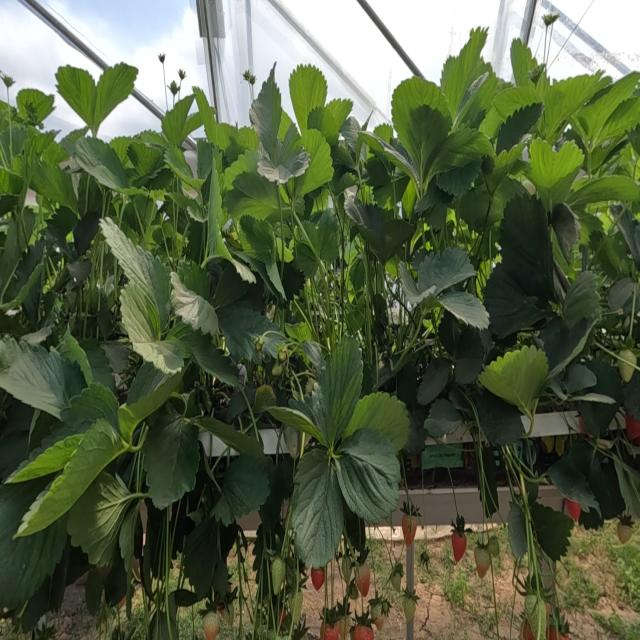Flowers: (242, 70, 255, 88), (177, 68, 186, 80)
Leaves: (5, 383, 120, 484), (1, 482, 67, 611), (67, 471, 139, 566), (0, 337, 82, 417), (305, 335, 363, 447), (290, 446, 343, 567), (391, 77, 451, 181), (105, 231, 170, 326), (541, 272, 600, 374), (337, 428, 399, 524), (207, 160, 255, 282), (500, 195, 555, 300), (120, 283, 181, 374), (570, 72, 639, 150), (144, 417, 199, 508), (540, 72, 609, 139), (481, 346, 547, 415), (483, 264, 543, 337), (440, 26, 487, 118), (425, 126, 491, 189), (212, 454, 269, 524), (456, 175, 524, 232), (217, 301, 277, 365), (346, 392, 409, 450), (529, 140, 582, 208), (171, 261, 216, 334), (250, 67, 282, 166), (417, 246, 475, 299), (3, 239, 51, 303), (345, 192, 388, 262), (183, 514, 219, 597), (93, 62, 138, 128), (72, 137, 128, 190), (193, 418, 263, 457), (289, 64, 327, 134), (474, 389, 523, 443), (224, 172, 279, 219), (548, 458, 599, 508), (190, 333, 239, 385), (56, 65, 95, 129), (238, 216, 277, 279), (532, 501, 574, 559), (32, 158, 77, 212), (297, 130, 333, 197), (497, 102, 542, 151), (569, 175, 640, 206), (471, 440, 499, 518), (308, 99, 351, 147), (193, 87, 227, 146), (216, 123, 260, 167), (257, 149, 310, 185), (80, 340, 115, 393), (440, 292, 488, 330), (551, 203, 580, 261), (127, 363, 168, 404), (399, 263, 439, 303), (163, 96, 194, 147), (455, 327, 483, 383), (424, 400, 463, 439), (417, 357, 450, 403), (510, 38, 539, 86), (340, 116, 367, 165), (16, 89, 54, 123), (127, 142, 163, 177), (165, 146, 195, 186), (316, 209, 338, 263), (507, 501, 527, 559), (102, 340, 129, 375), (564, 364, 595, 394), (294, 239, 318, 277), (607, 277, 635, 309), (301, 220, 320, 258), (197, 139, 213, 180), (253, 385, 276, 413), (21, 326, 51, 345)
Strawberries: (523, 594, 546, 639), (616, 349, 637, 382), (271, 558, 286, 594), (474, 546, 489, 578), (402, 515, 417, 547), (452, 532, 466, 563), (356, 564, 370, 595), (203, 612, 219, 639), (291, 590, 303, 624), (565, 498, 581, 521), (625, 415, 639, 440), (401, 596, 415, 619), (321, 623, 340, 639), (617, 523, 632, 543), (310, 568, 323, 590), (369, 598, 382, 620), (353, 626, 374, 639), (339, 616, 350, 639), (488, 536, 499, 558), (390, 573, 401, 592), (271, 361, 284, 376), (278, 345, 288, 363), (374, 616, 384, 631)
